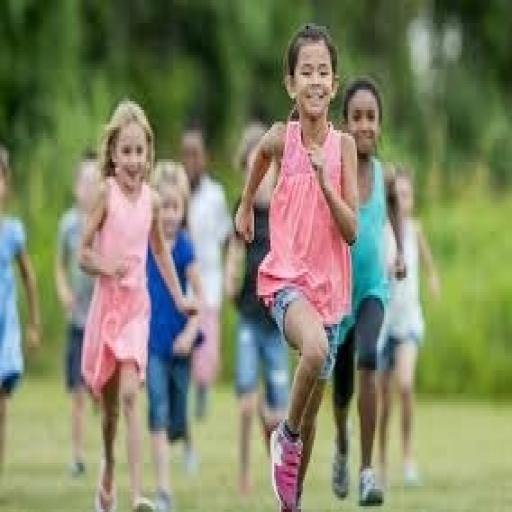running: (232, 20, 362, 509), (76, 98, 198, 509), (330, 75, 409, 509)
